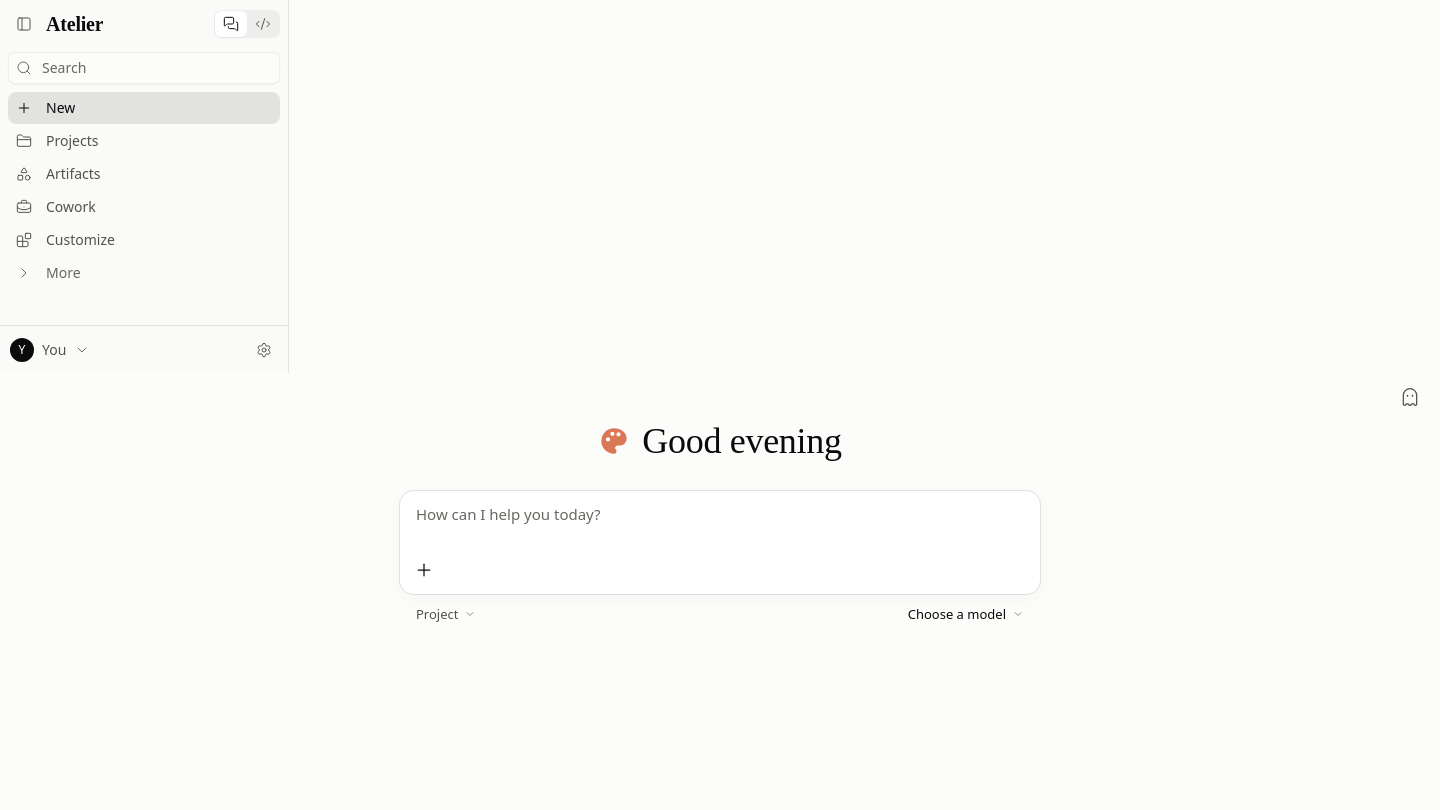
temporary chats › turn the new-chat page into the temporary one, with a dashed composer and what happens explained
This screenshot has width=1440, height=810.
Click the button named "Temporary chat". click: {"x": 1410, "y": 397}
box: [1396,383,1424,411]
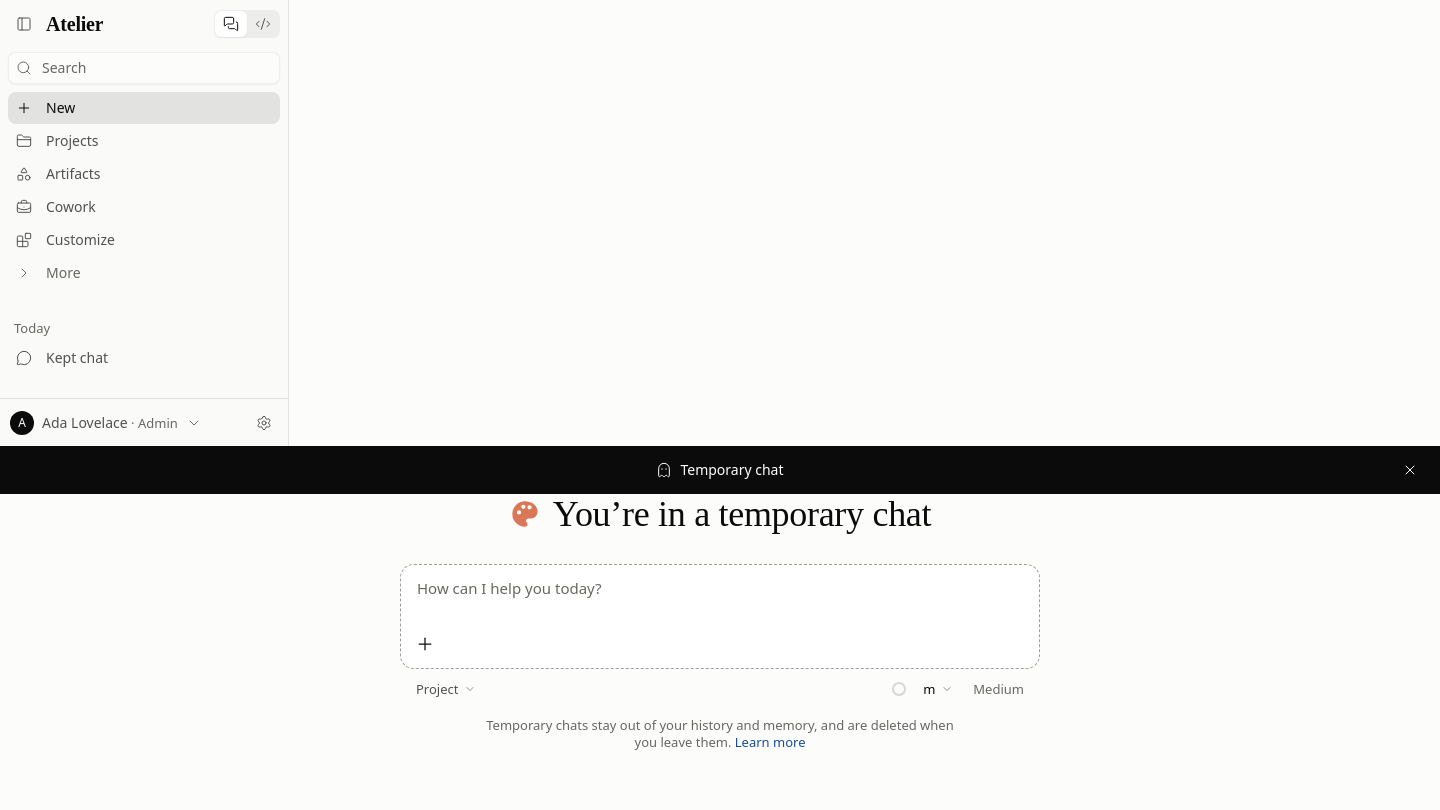
Now the heading "You’re in a temporary chat" is shown, box [509,494,931,534]
Now the button named "Leave temporary chat" is shown
Now the text "stay out of your history and memory, and are deleted when you leave them" is shown, box [486,716,954,751]
Click the button named "Leave temporary chat". click: {"x": 1410, "y": 470}
box: [1396,456,1424,484]
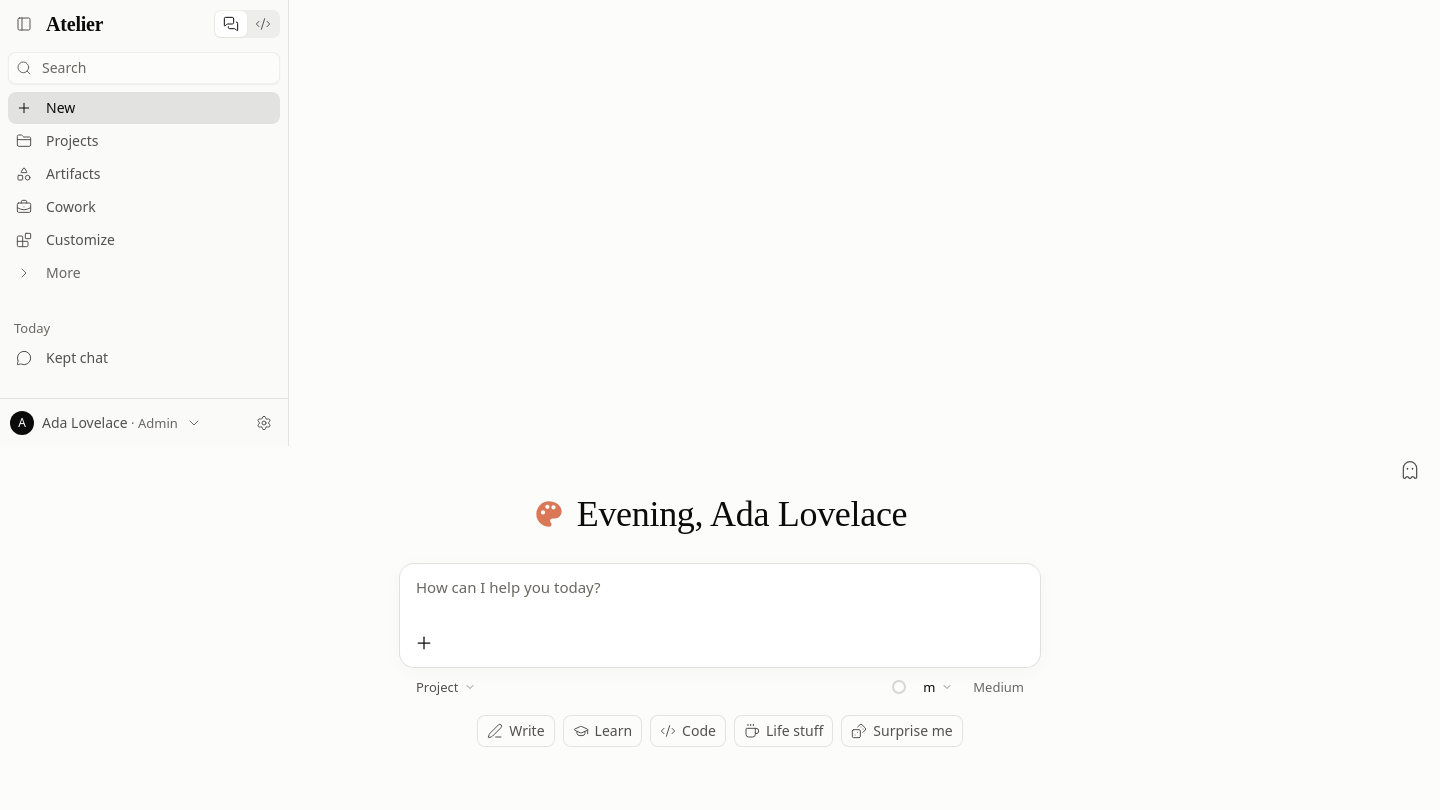
Now the button named "Temporary chat" is shown, box [1396,456,1424,484]
